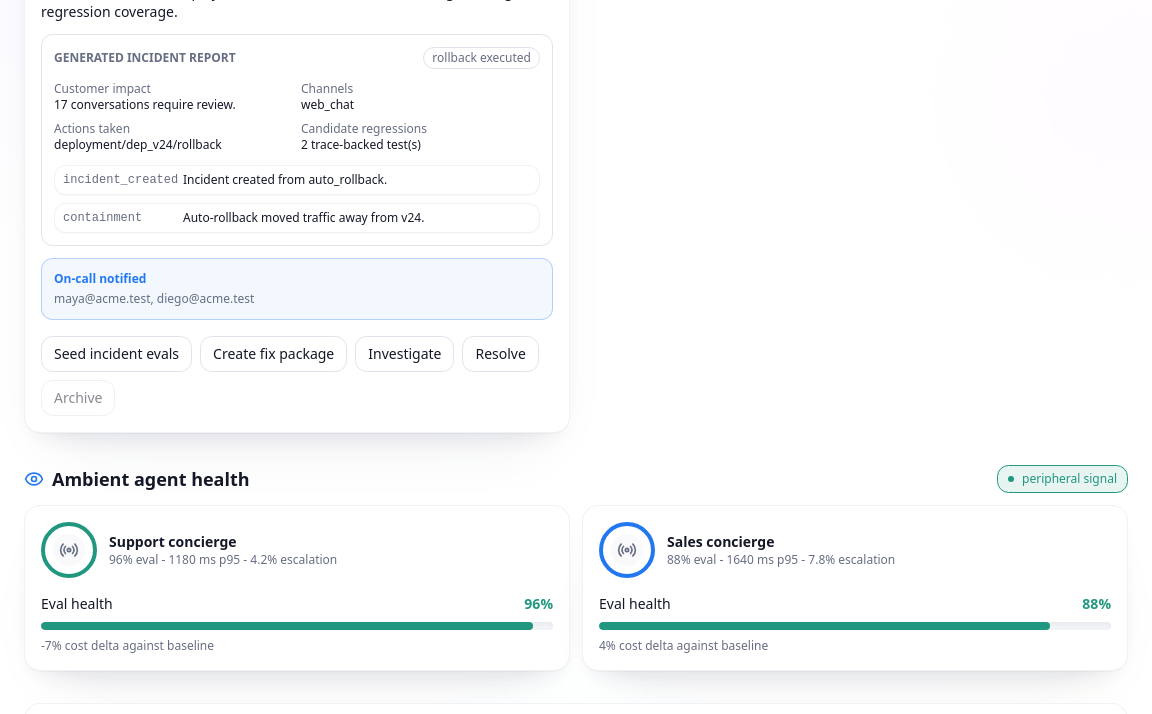
ObservatoryScreen › creates a fix Change Package from an incident
(page scrolled)
Click the button with test id "incident-fix-package-inc_rollback_schema" at [274, 354], box [200,336,347,372]
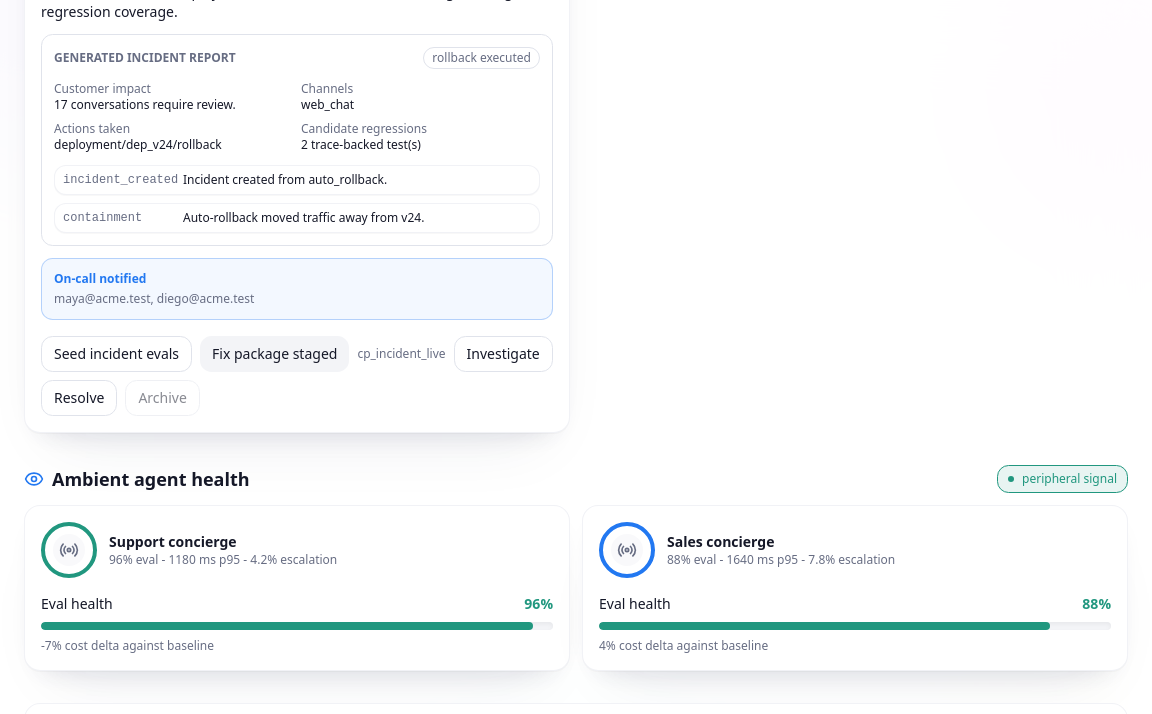
Check: the text with test id "incident-fix-package-id-inc_rollback_schema" reads "cp_incident_live", box [357,345,446,362]
